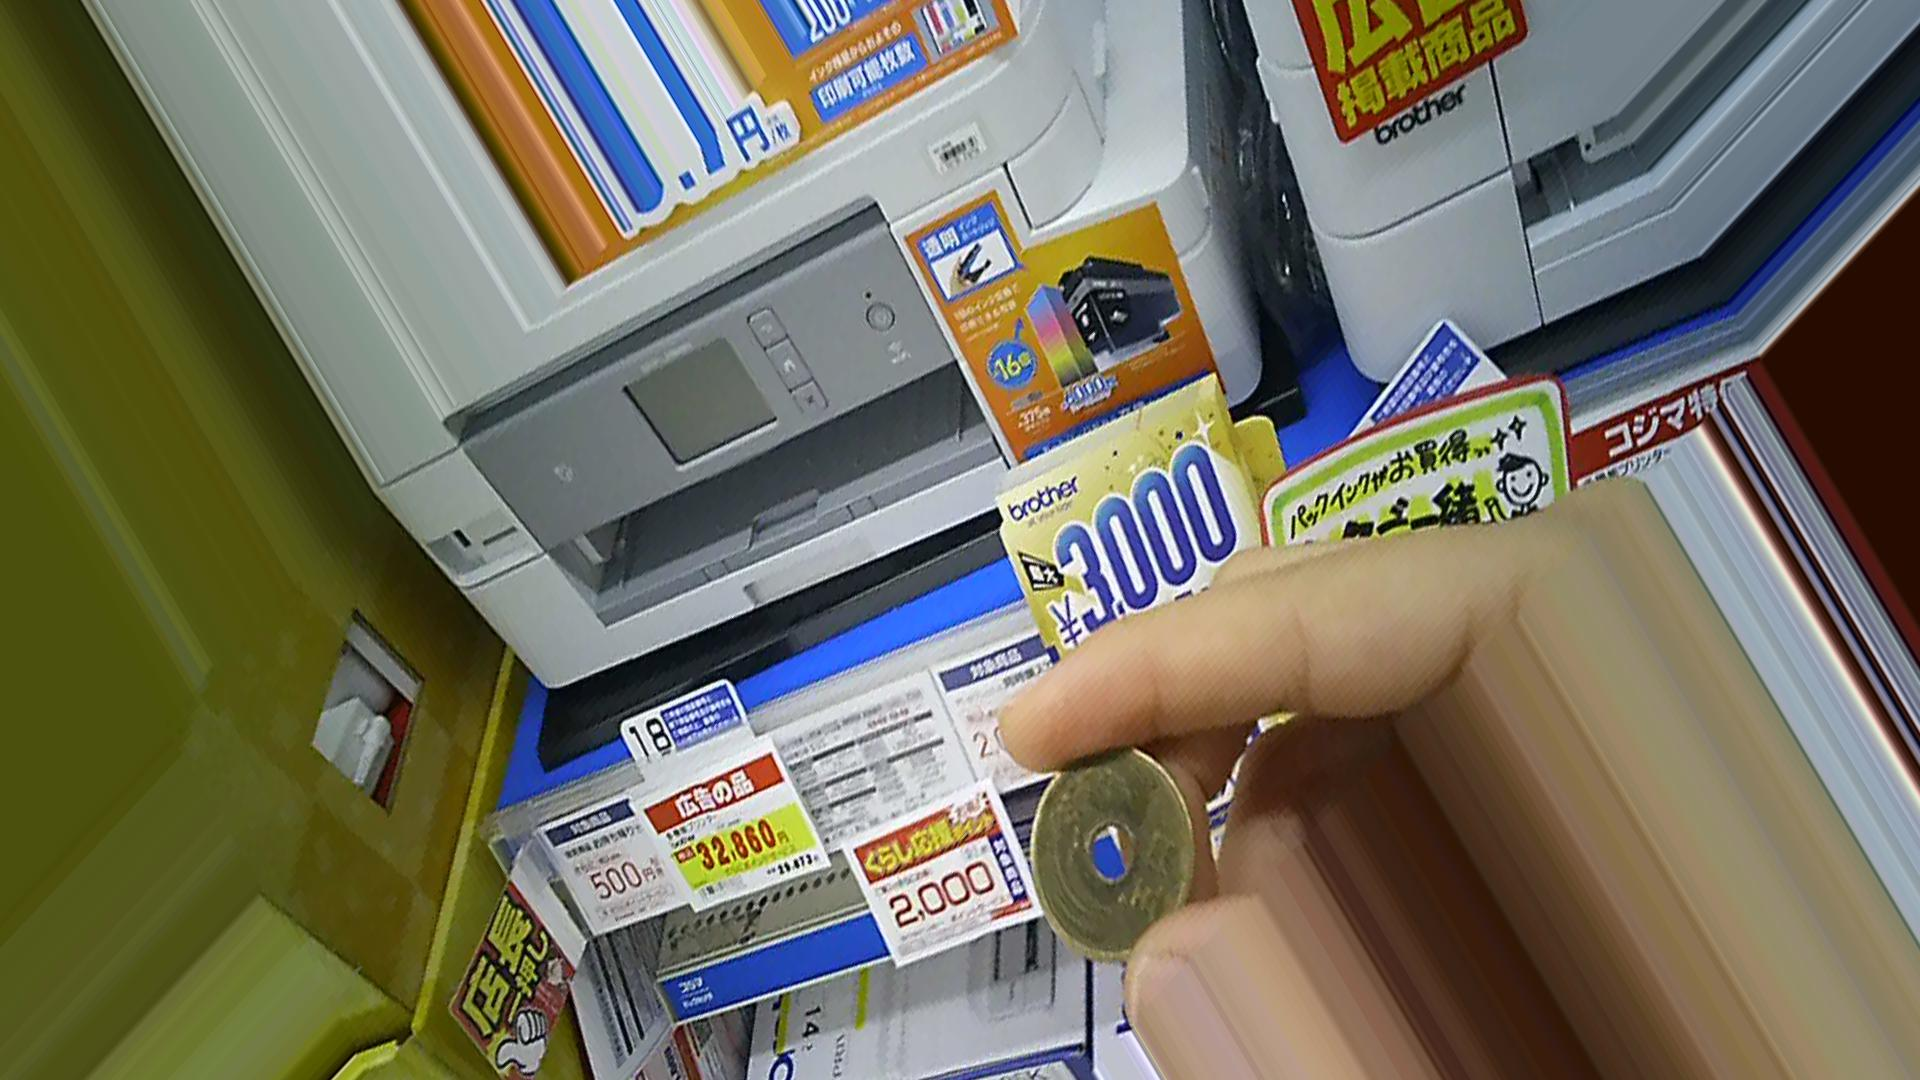5 Yen: (1029, 746, 1200, 963)
